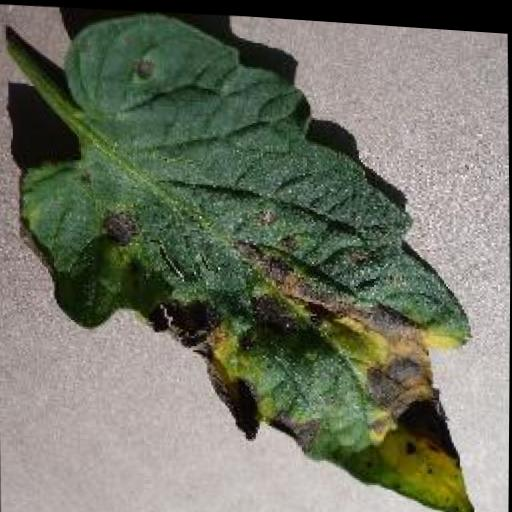Early Blight: (12, 1, 480, 512)
